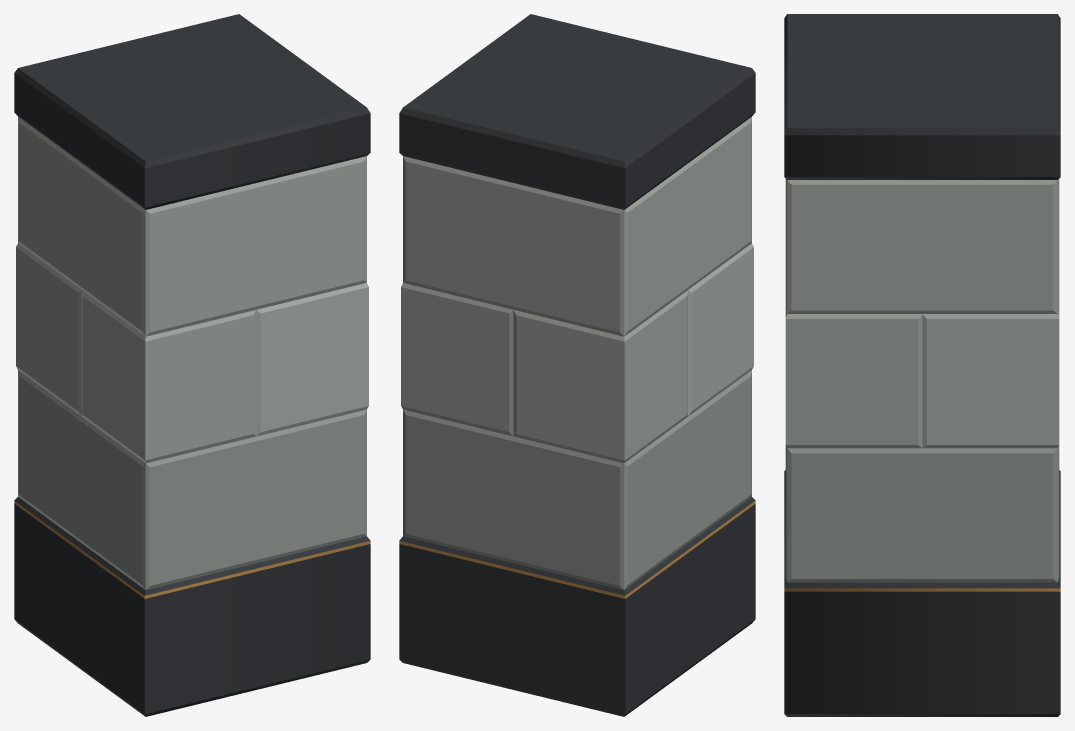
The model's file is Pillar_01.glb.
3 views of the same model, side by side, from view 1: azimuth 30°, elevation 25°; view 2: azimuth 150°, elevation 25°; view 3: azimuth 270°, elevation 25° (orthographic). The views are drawn at different scales.
Parts seen in each view (by area): view 1: SM_Env_Pillar_01; view 2: SM_Env_Pillar_01; view 3: SM_Env_Pillar_01.
Part boxes in pixels (x1,y1,x2,y2): SM_Env_Pillar_01: [14, 14, 370, 716]; SM_Env_Pillar_01: [399, 14, 755, 716]; SM_Env_Pillar_01: [784, 14, 1060, 716].
Bounding box in the file's own units: 1.28 × 3 × 1.28.
Materials: 1 (1 with a texture image).
